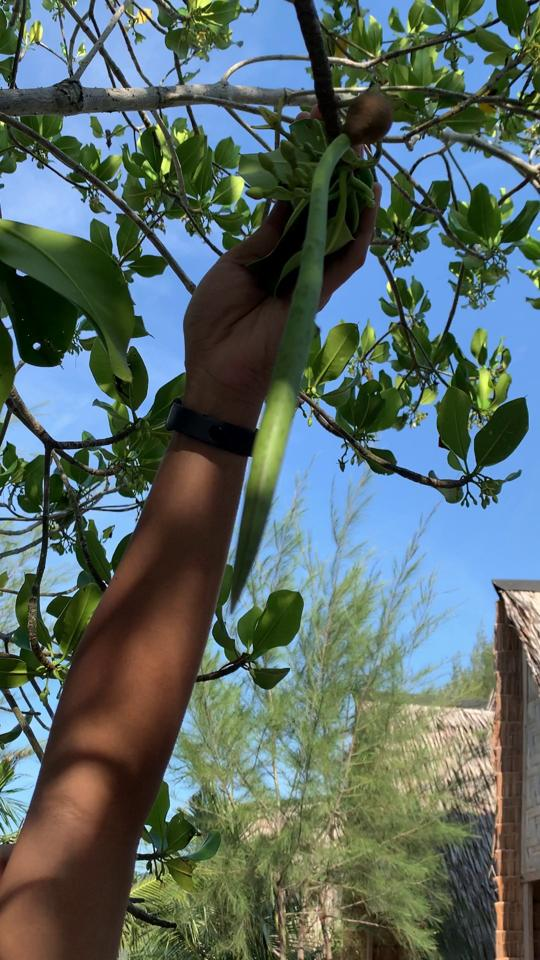mentah: (213, 67, 411, 630)
